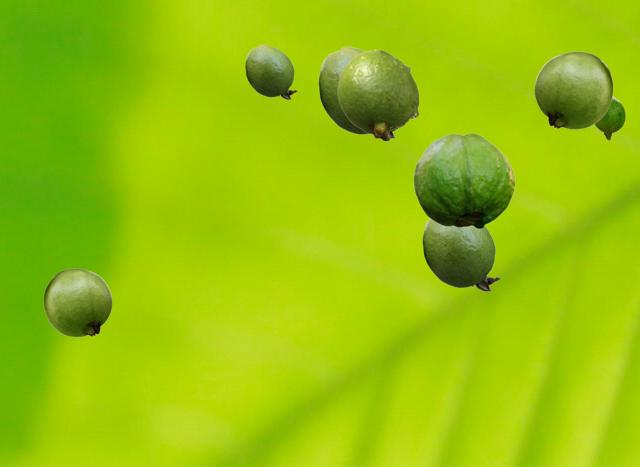guava: (413, 132, 514, 228), (318, 46, 404, 137), (337, 49, 418, 140), (534, 51, 612, 128), (422, 219, 499, 290), (43, 268, 111, 336), (245, 44, 296, 98), (594, 96, 624, 139)
